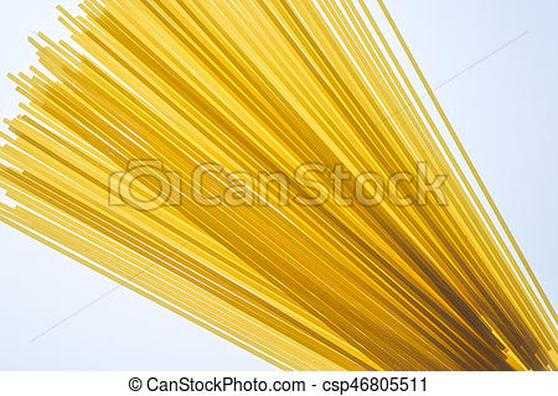spaghetti: (27, 11, 322, 144)
